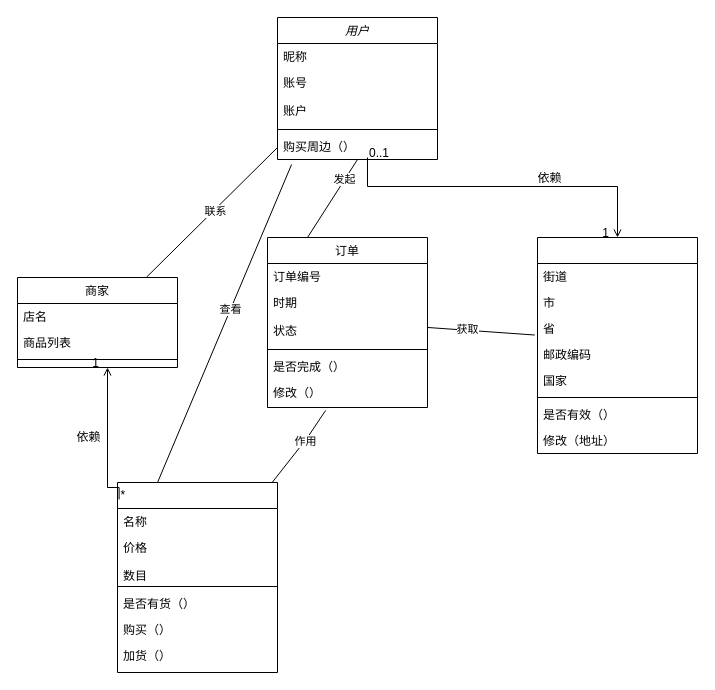
Image size: 715x690. Some labels were removed from this diagram. The shapes that lost their labels are listed below. From the top down, each one's box as (x1, y1, x2, y2) in pixels, then its label:
(536, 236, 698, 454): 地址
(116, 482, 278, 672): 商品
